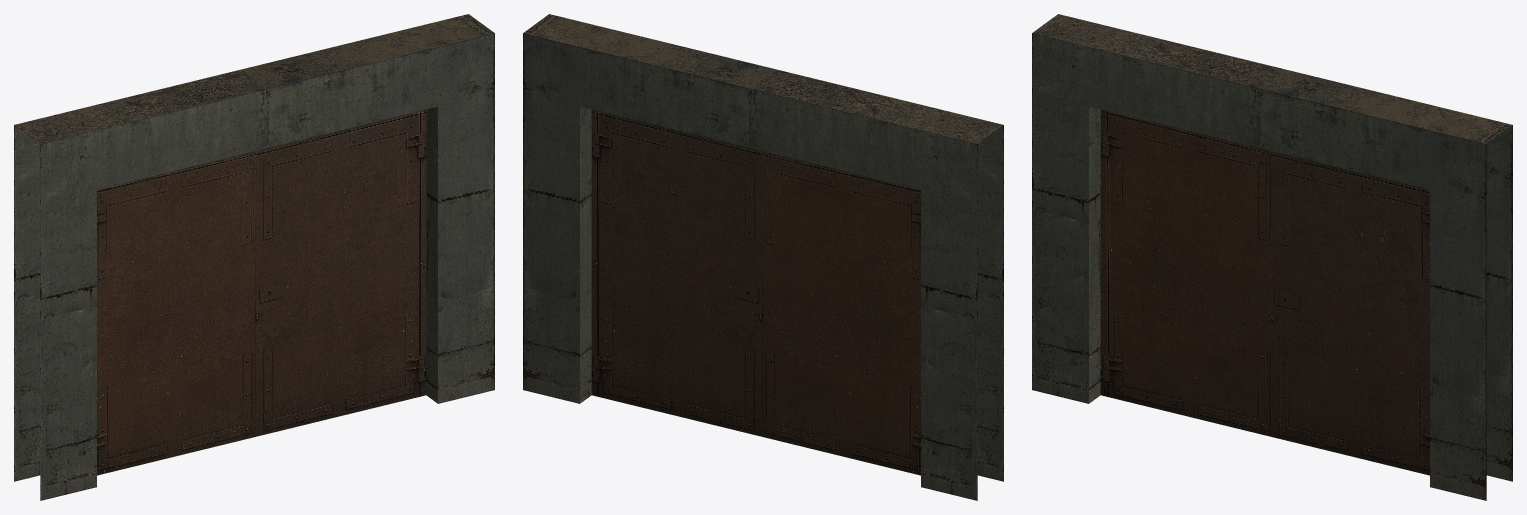
File: garage_door_frame_rg_2.glb
3 views of the same model, side by side, from view 1: azimuth 30°, elevation 25°; view 2: azimuth 150°, elevation 25°; view 3: azimuth 330°, elevation 25° (orthographic).
Visible parts, largest first — view 1: garage_door_hm_3, garage_door_frame_rg_2; view 2: garage_door_hm_3, garage_door_frame_rg_2; view 3: garage_door_hm_3, garage_door_frame_rg_2.
Part boxes in pixels (bbox=[...]): garage_door_hm_3: bbox=[97, 109, 426, 475]; garage_door_frame_rg_2: bbox=[14, 14, 494, 500]; garage_door_hm_3: bbox=[591, 109, 920, 475]; garage_door_frame_rg_2: bbox=[523, 14, 1003, 500]; garage_door_hm_3: bbox=[1100, 109, 1429, 475]; garage_door_frame_rg_2: bbox=[1032, 14, 1512, 500].
Size of the model in its own units: 4 by 3 by 0.4.
Materials: 3 (3 with a texture image).
